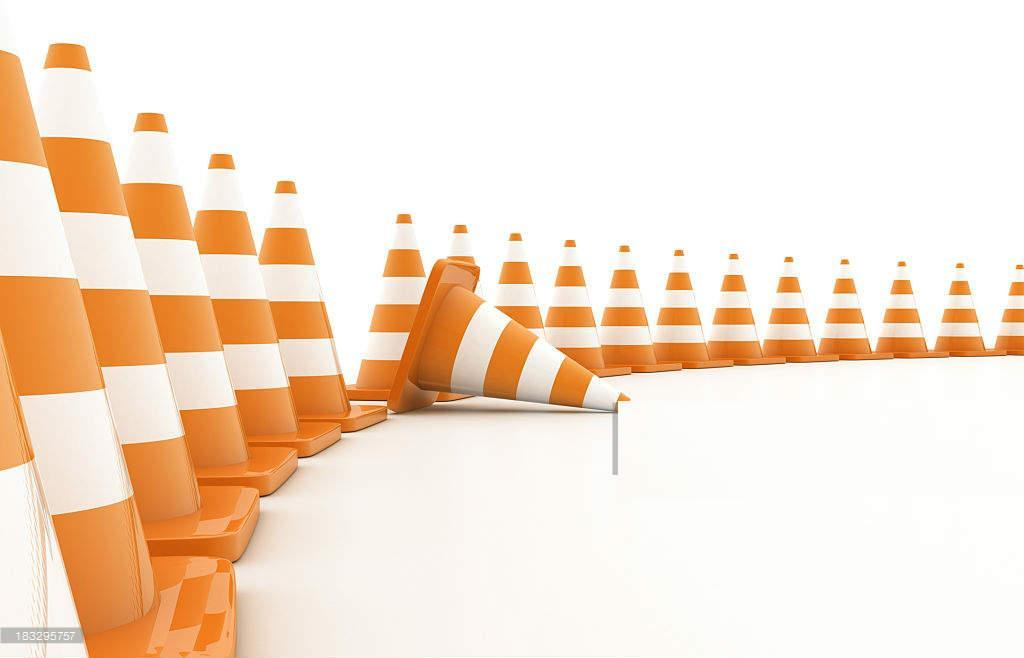Cone: (377, 258, 636, 433)
